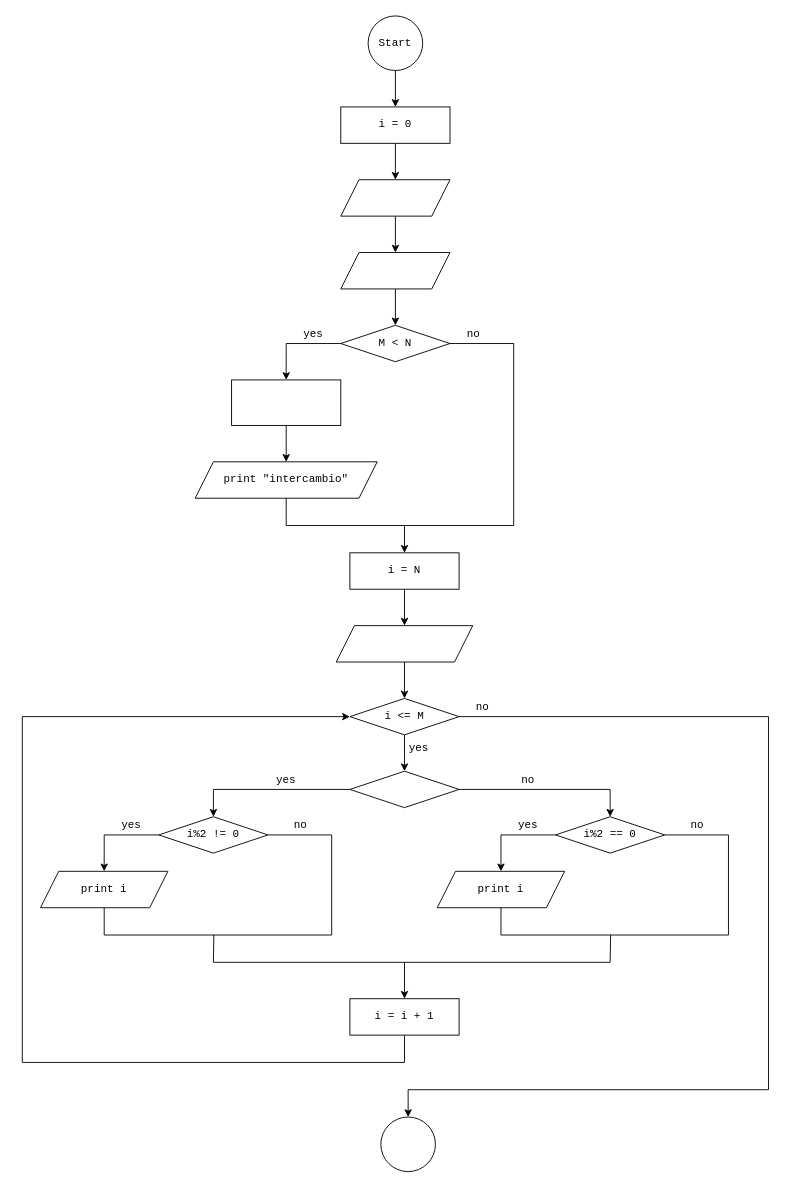
Image size: 792x1188. Some labels were removed from this diagram. Each missing label, with the centre of its shape:
aux = M M = N N = aux: the point at 286,402
End: the point at 407,1144
opc == 'i': the point at 404,789
print "salida": the point at 404,643
read M, N: the point at 395,197
read opc: the point at 395,270
